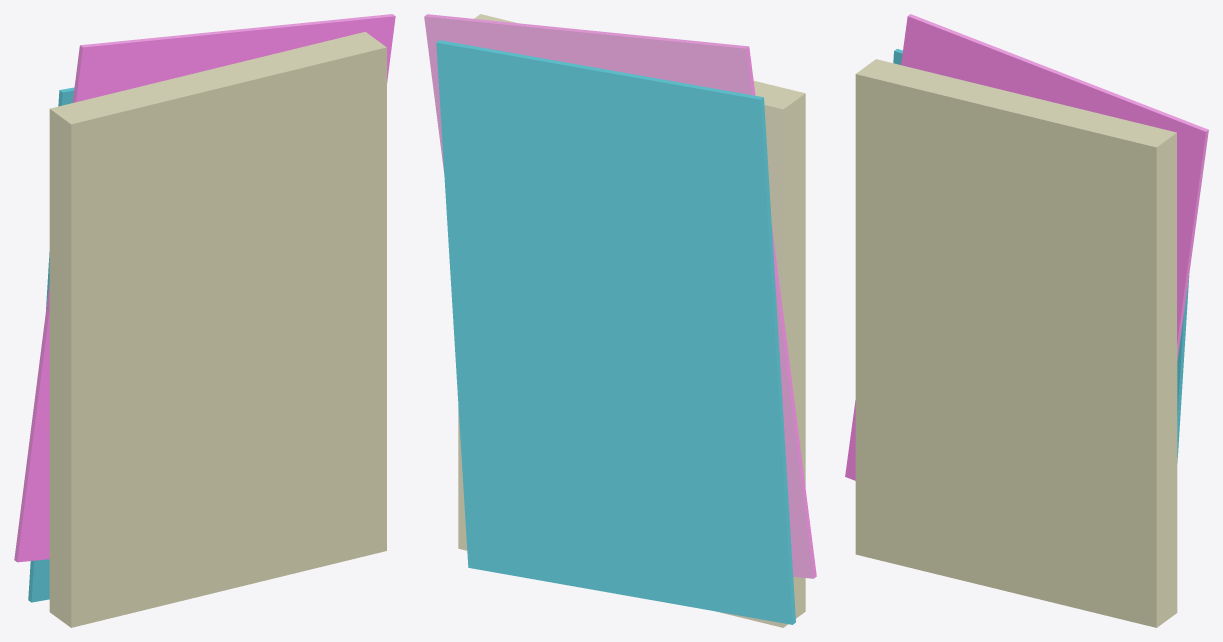
The model's file is Papers.glb.
3 views of the same model, side by side, from view 1: azimuth 30°, elevation 25°; view 2: azimuth 150°, elevation 25°; view 3: azimuth 330°, elevation 25° (orthographic). The views are drawn at different scales.
Visible parts, largest first — view 1: SO_Papers_01; view 2: SO_Papers_01; view 3: SO_Papers_01.
Part boxes in pixels (x1,y1,x2,y2): SO_Papers_01: (14, 14, 395, 627); SO_Papers_01: (424, 14, 816, 627); SO_Papers_01: (845, 14, 1208, 627).
Size of the model in its own units: 0.5715 by 0.8182 by 0.0725.
Materials: 1 (1 with a texture image).
